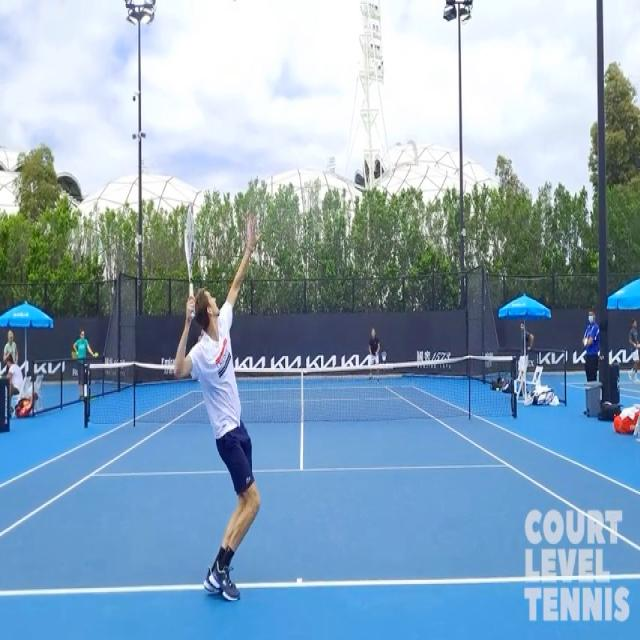serve_hit: (160, 177, 286, 612)
